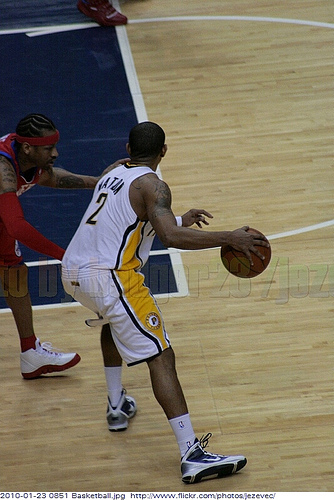basketball: (222, 232, 271, 278)
